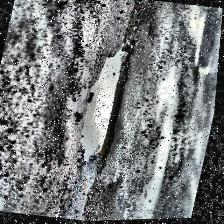pothole: (70, 40, 138, 168)
